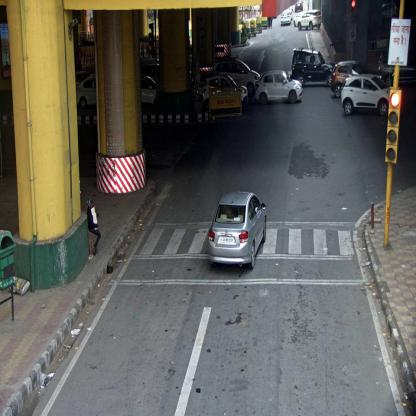car: (207, 192, 267, 270), (340, 72, 397, 118), (214, 62, 260, 101), (292, 46, 335, 86), (256, 71, 302, 107), (203, 76, 248, 106), (333, 61, 365, 100), (299, 11, 321, 29), (282, 12, 292, 24)
